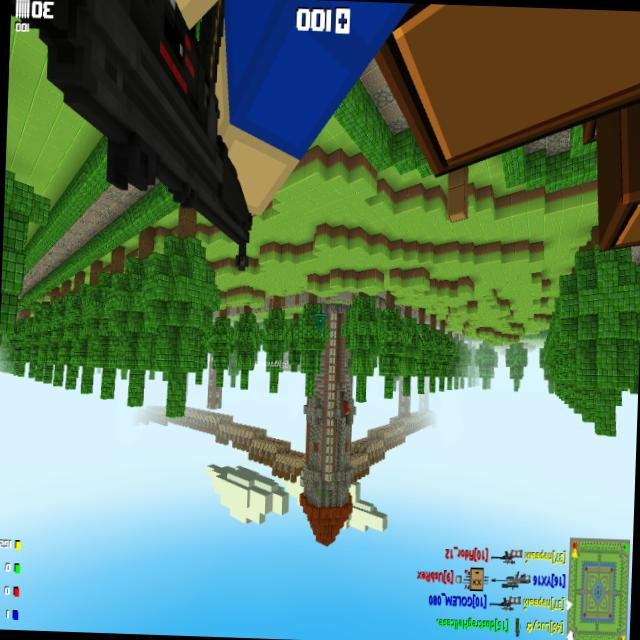enemy: (342, 401, 350, 416)
